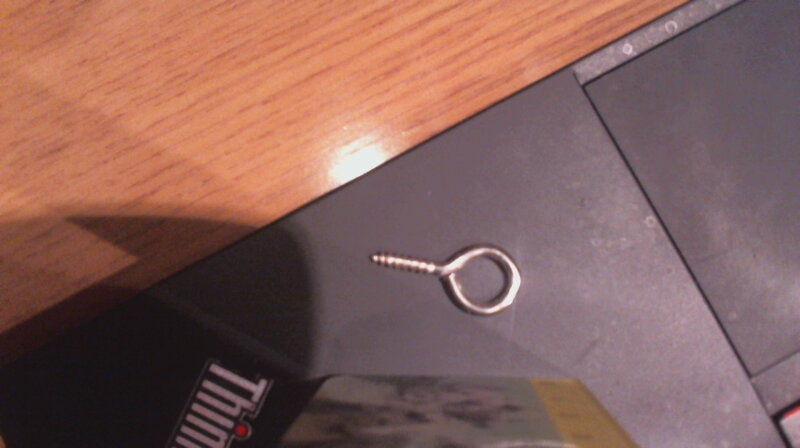O001: (370, 242, 526, 317)
